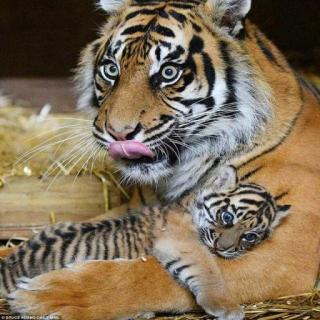Tiger: (30, 0, 320, 314), (25, 165, 294, 282)
